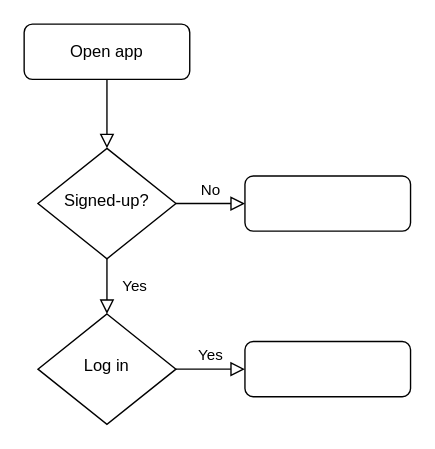
Image size: 435x449. Some labels were removed from this diagram. Here are the shapes that lost their labels. From the top down, the box of each, then its label:
(244, 175, 411, 231): Show sign-up page
(244, 340, 411, 397): Show home page
